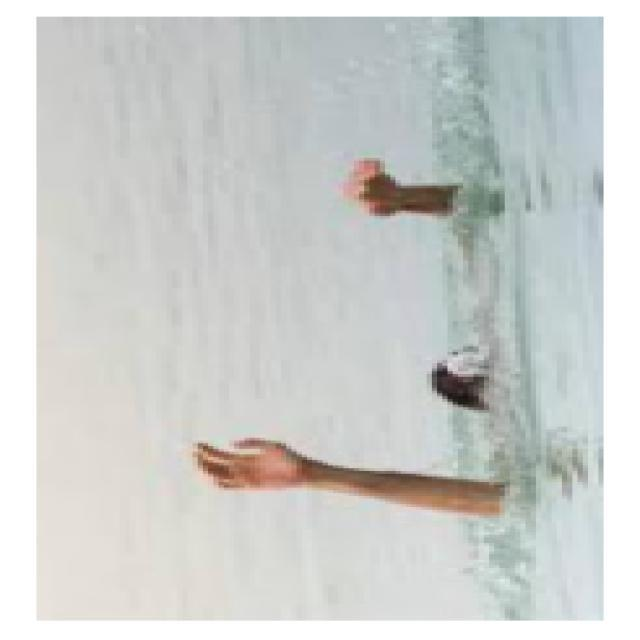Out of Water: (173, 154, 535, 522)
